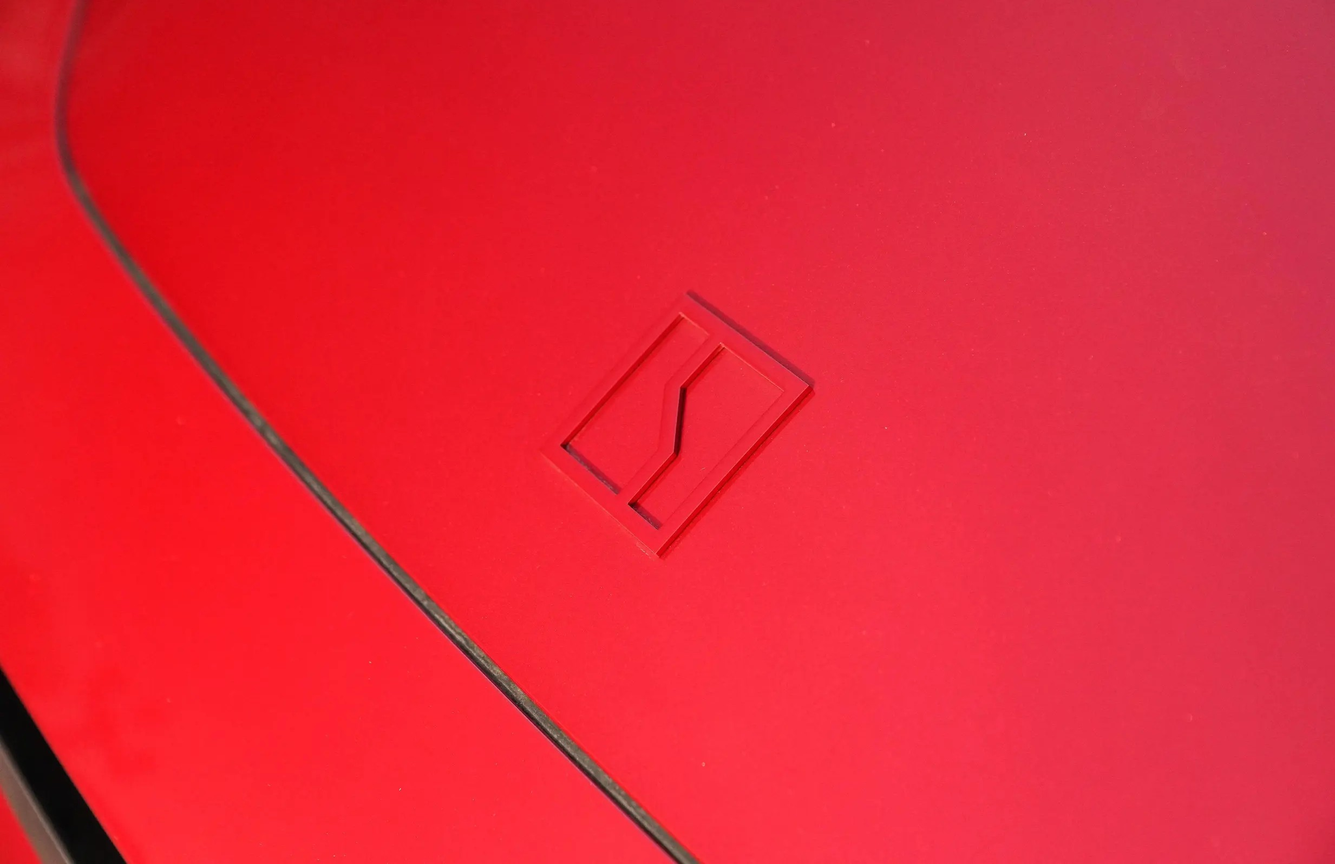ZEEKR: (542, 293, 811, 557)
